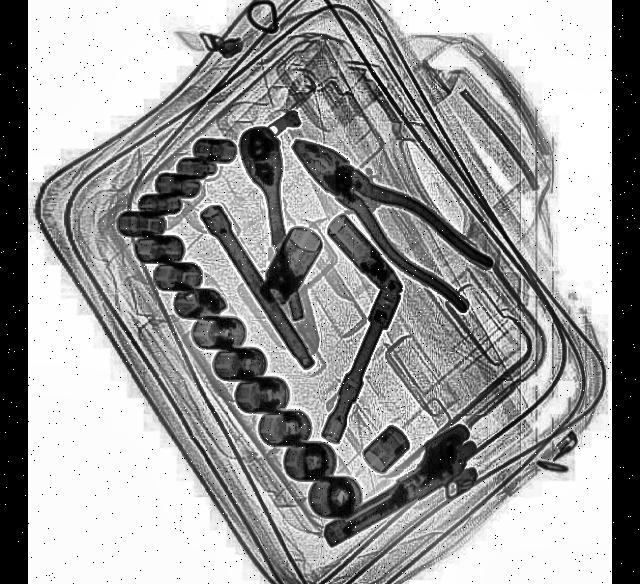Gun: (304, 422, 480, 554)
Pliers: (277, 117, 493, 317)
